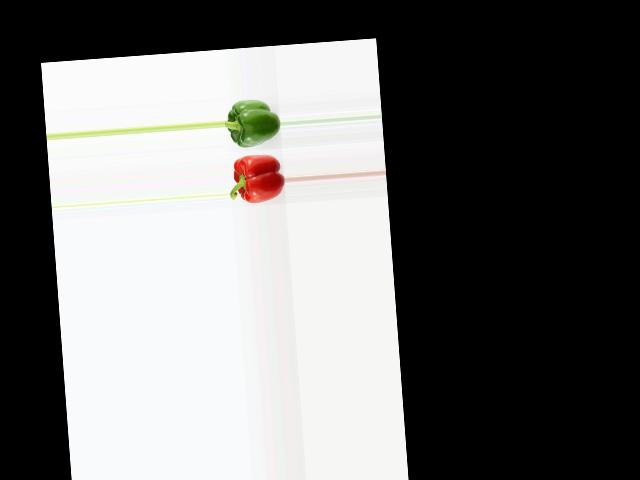bell_pepper: (224, 96, 279, 150)
